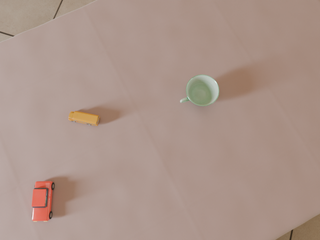cup: (180, 75, 219, 106)
toy_car: (32, 181, 54, 221), (69, 111, 100, 126)
